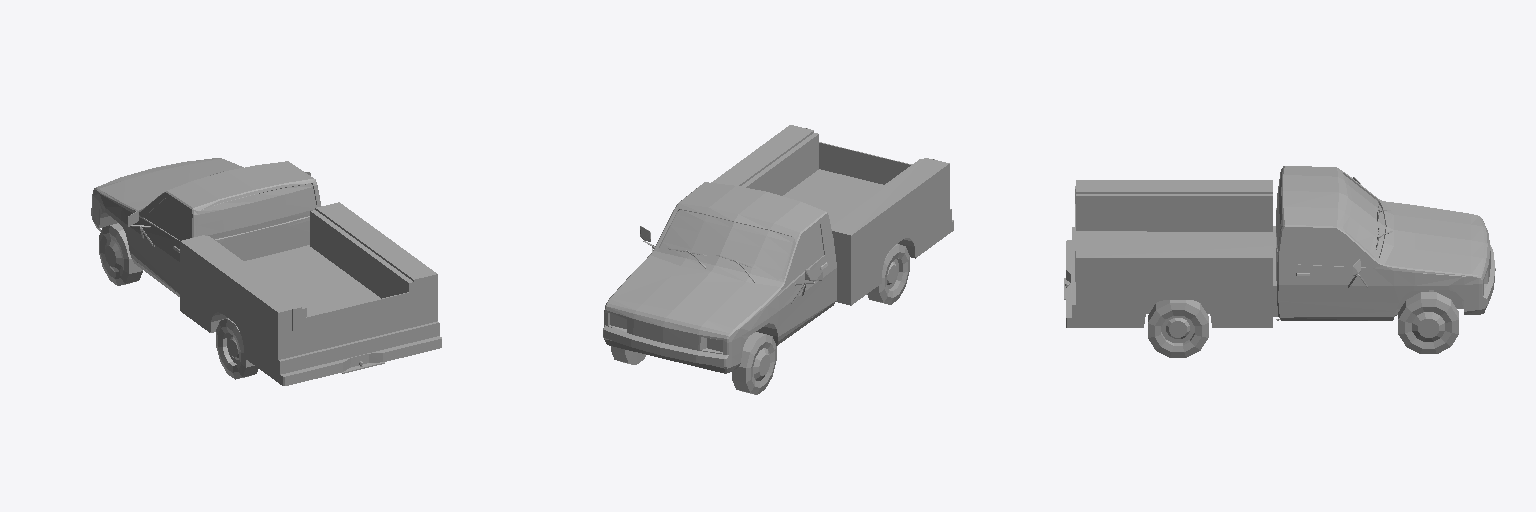
The model's file is ROS7WDRXJ4DVA1YALYEBCQXD1.obj.
The picture shows the model from 3 angles: view 1: azimuth 30°, elevation 25°; view 2: azimuth 150°, elevation 25°; view 3: azimuth 270°, elevation 25°; orthographic projection.
Parts seen in each view (by area): view 1: Object_utility_truck.jpg; view 2: Object_utility_truck.jpg; view 3: Object_utility_truck.jpg.
Part boxes in pixels (x1,y1,x2,y2): Object_utility_truck.jpg: (91,158,441,385); Object_utility_truck.jpg: (603,125,953,394); Object_utility_truck.jpg: (1064,166,1495,357).
Size of the model in its own units: 1.23 by 0.8354 by 2.5.